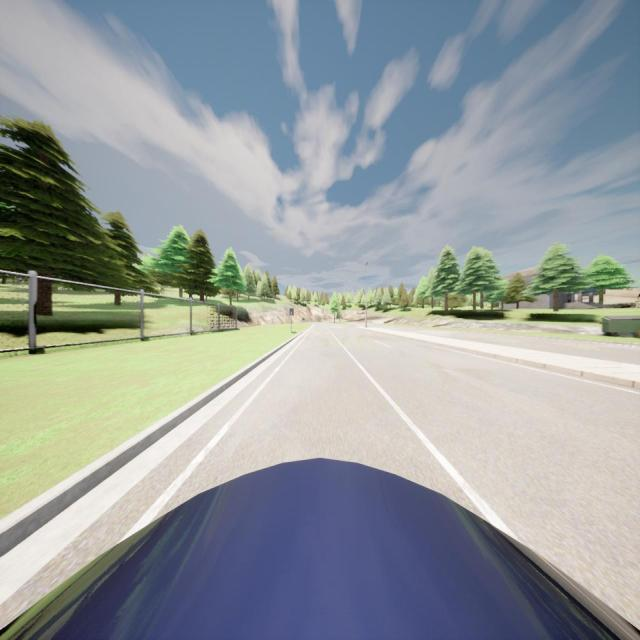Traffic_Signs: (289, 308, 294, 316)
Vehicle: (2, 458, 640, 638)
